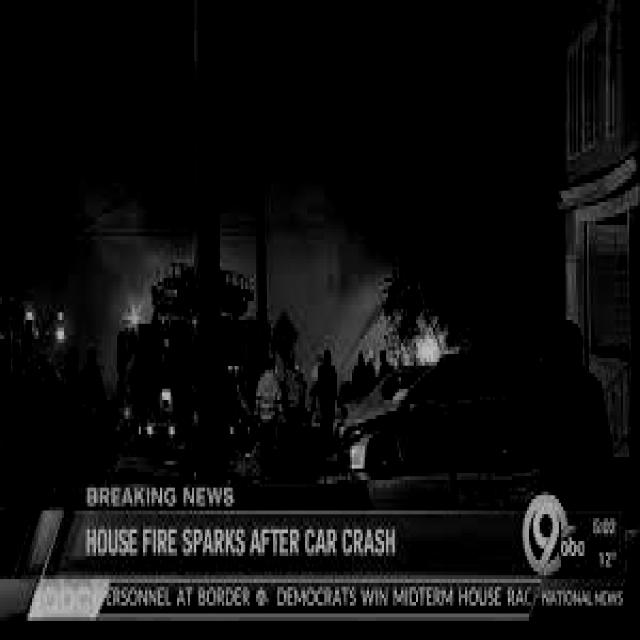fire: (373, 294, 468, 374)
